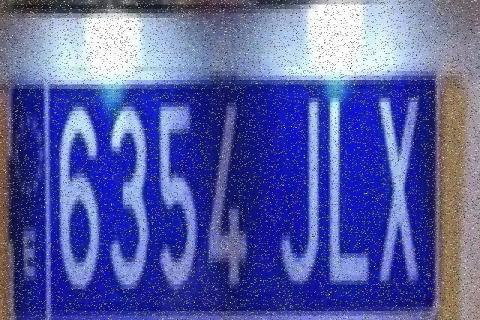LicensePlate: (3, 47, 450, 320)
